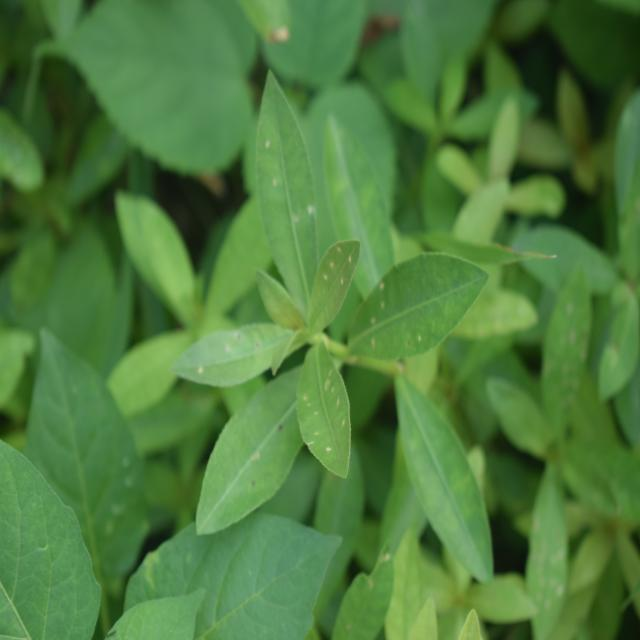Alligatorweed: (160, 85, 483, 528)
